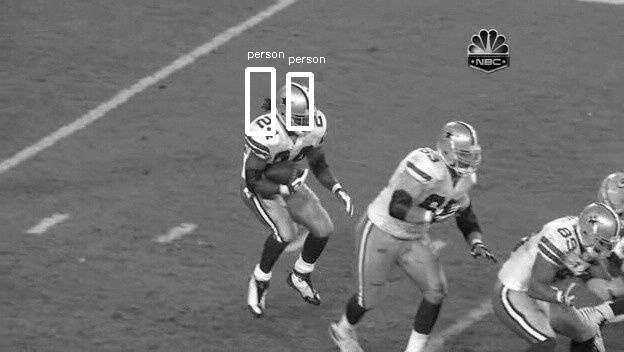person: (280, 84, 316, 130), (279, 84, 315, 130), (281, 84, 317, 130), (280, 83, 316, 129), (280, 85, 316, 131)
target_negative: (112, 67, 548, 220), (203, 148, 588, 319), (278, 231, 556, 350), (515, 94, 599, 300), (492, 83, 532, 262), (469, 324, 540, 338)
